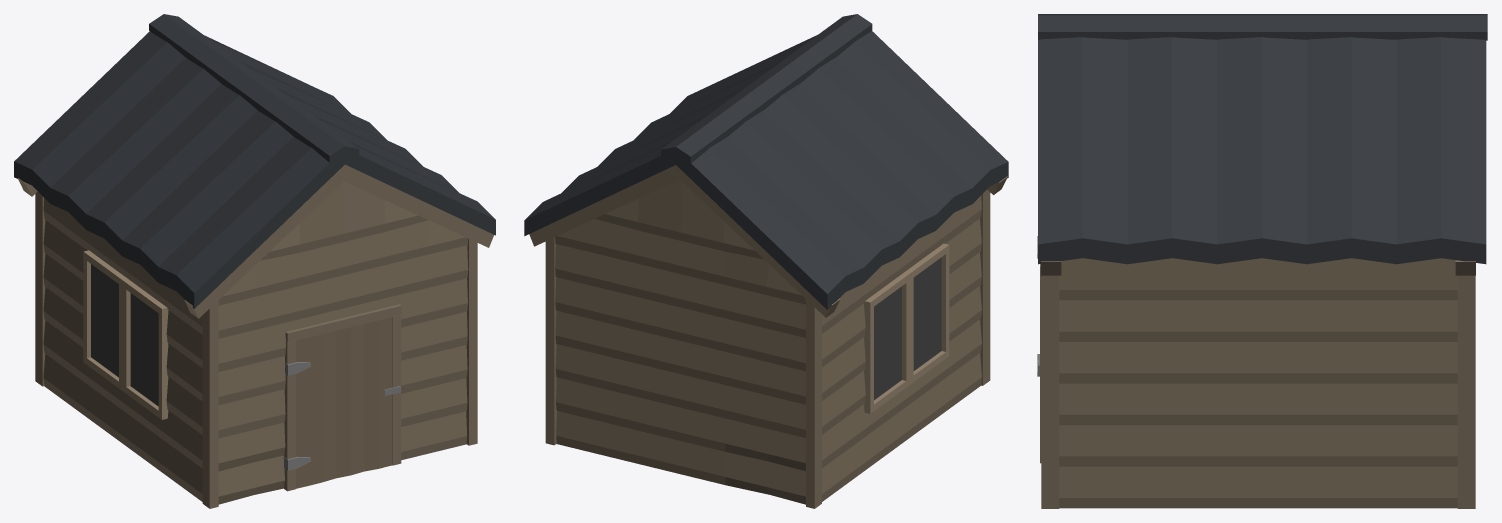
Rendered from schuur.fbx.
The picture shows the model from 3 angles, left to right: view 1: azimuth 30°, elevation 25°; view 2: azimuth 150°, elevation 25°; view 3: azimuth 270°, elevation 25°; orthographic projection. The views are drawn at different scales.
Parts seen in each view (by area): view 1: Cube.004, Cube.003, Cube.011, Cube.007, Cube.010, Cube.013, Cube.012, Cube.005, Cube.006, Cube.008; view 2: Cube.004, Cube.003, Cube.011, Cube.010, Cube.013, Cube.012; view 3: Cube.003, Cube.011, Cube.010, Cube.004.
Part boxes in pixels (left/top/right/bottom): Cube.004: left=18, top=164, right=493, bottom=508; Cube.003: left=14, top=31, right=495, bottom=308; Cube.011: left=43, top=198, right=202, bottom=501; Cube.007: left=296, top=317, right=392, bottom=488; Cube.010: left=149, top=14, right=359, bottom=162; Cube.013: left=91, top=264, right=158, bottom=406; Cube.012: left=83, top=250, right=168, bottom=419; Cube.005: left=284, top=315, right=401, bottom=491; Cube.006: left=285, top=304, right=401, bottom=342; Cube.008: left=283, top=362, right=310, bottom=470; Cube.004: left=529, top=165, right=1007, bottom=508; Cube.003: left=524, top=31, right=1008, bottom=309; Cube.011: left=822, top=195, right=981, bottom=501; Cube.010: left=661, top=14, right=872, bottom=163; Cube.013: left=874, top=257, right=941, bottom=399; Cube.012: left=864, top=243, right=949, bottom=413; Cube.003: left=1038, top=37, right=1486, bottom=264; Cube.011: left=1059, top=258, right=1457, bottom=508; Cube.010: left=1038, top=14, right=1487, bottom=40; Cube.004: left=1041, top=260, right=1475, bottom=508.
Bounding box in the file's own units: 933 × 977 × 965.
